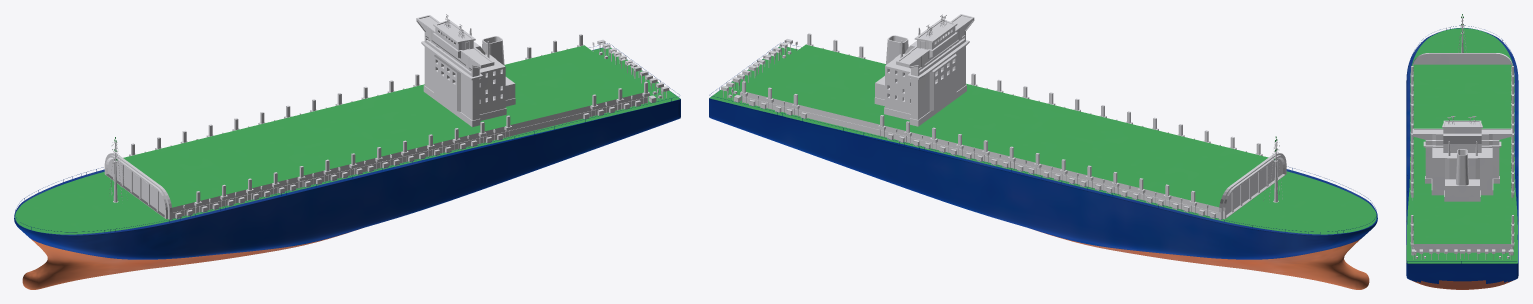
The model's file is ContainerShip.FBX.
3 views of the same model, side by side, from view 1: azimuth 30°, elevation 25°; view 2: azimuth 150°, elevation 25°; view 3: azimuth 270°, elevation 25° (orthographic). The views are drawn at different scales.
Visible parts, largest first — view 1: Ship001; view 2: Ship001; view 3: Ship001.
Part boxes in pixels (x1,y1,x2,y2): Ship001: (14, 14, 680, 289); Ship001: (709, 14, 1377, 289); Ship001: (1406, 14, 1518, 289).
Size of the model in its own units: 18006 by 4759 by 3616.
